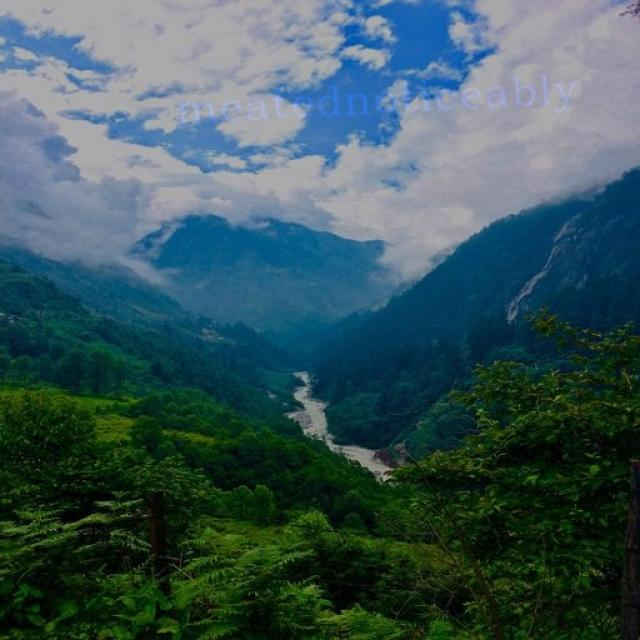watermark: (165, 71, 578, 130)
